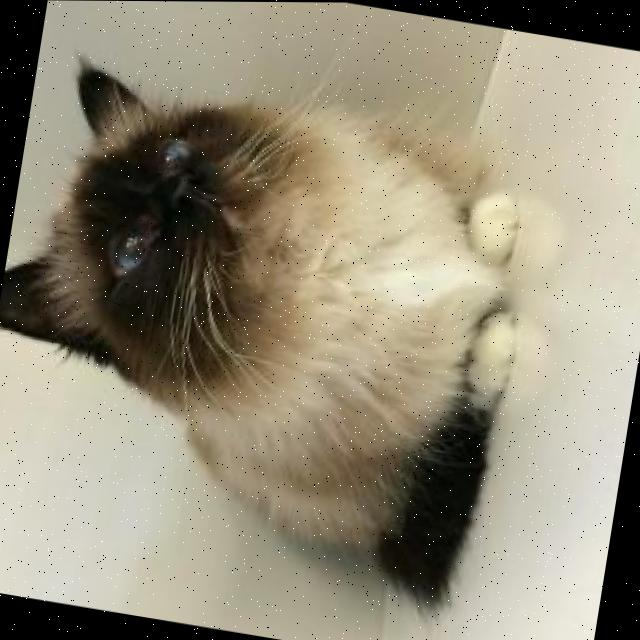Birman: (0, 50, 556, 619)
